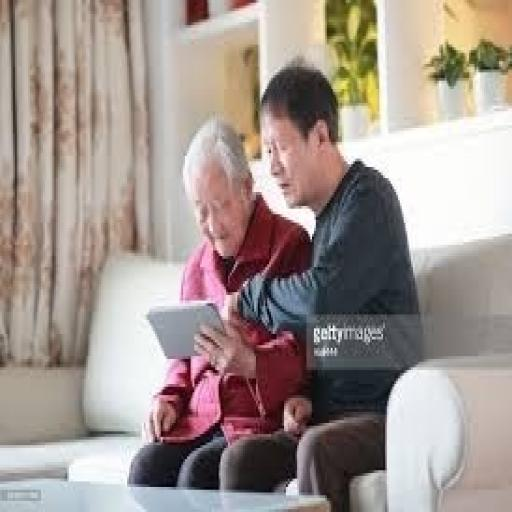using_laptop: (144, 298, 224, 359)
